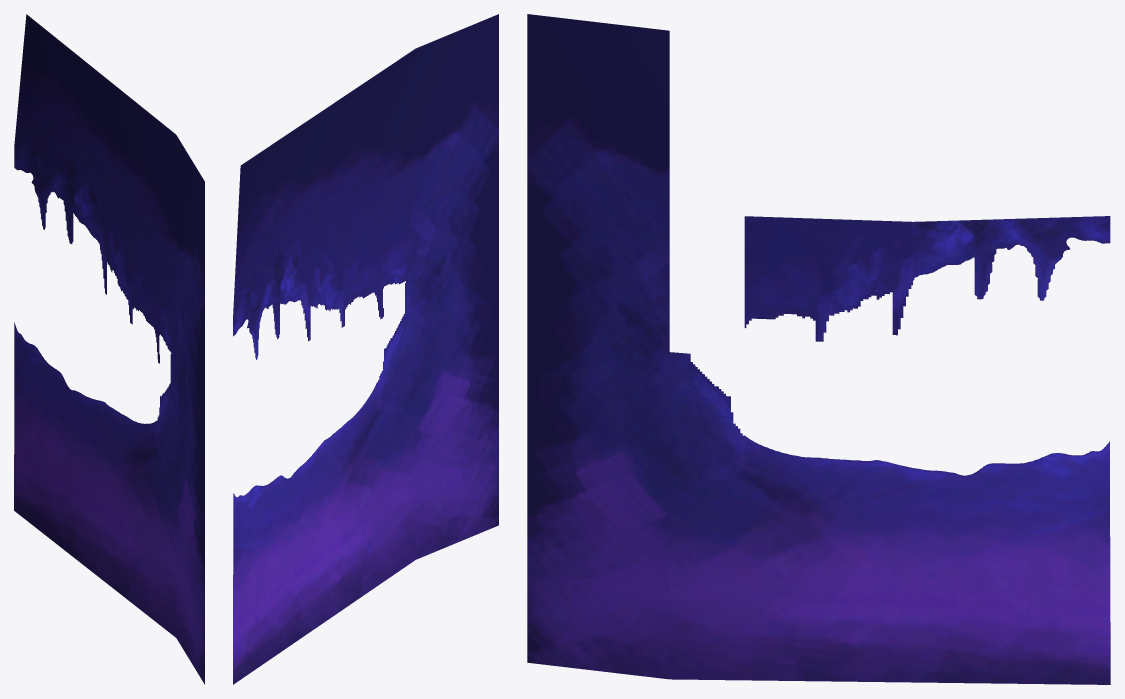
Rendered from SWORDLIGHT20_PS-AREA05-RANGE04_02.fbx.
3 views of the same model, side by side, from view 1: azimuth 30°, elevation 25°; view 2: azimuth 150°, elevation 25°; view 3: azimuth 270°, elevation 25° (orthographic). The views are drawn at different scales.
Parts seen in each view (by area): view 1: SWORDLIGHT20_PS-AREA05-RANGE04_02; view 2: SWORDLIGHT20_PS-AREA05-RANGE04_02; view 3: SWORDLIGHT20_PS-AREA05-RANGE04_02.
Part boxes in pixels (x1=…): SWORDLIGHT20_PS-AREA05-RANGE04_02: x1=14, y1=14, x2=204, y2=684; SWORDLIGHT20_PS-AREA05-RANGE04_02: x1=233, y1=14, x2=498, y2=684; SWORDLIGHT20_PS-AREA05-RANGE04_02: x1=527, y1=14, x2=1110, y2=684.
Size of the model in its own units: 31011 by 333000 by 271454.
Materials: 8 (8 with a texture image).
